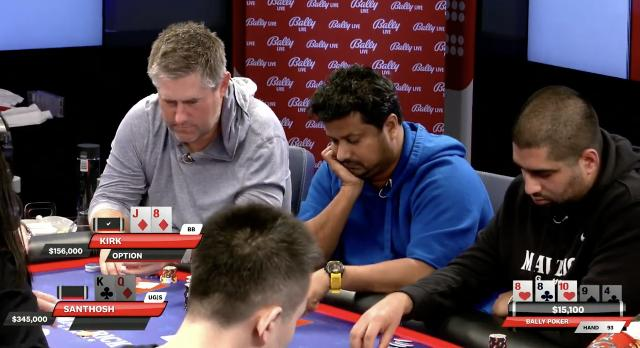10H: (558, 282, 578, 302)
4C: (603, 286, 621, 304)
8C: (536, 282, 554, 302)
8D: (152, 206, 172, 234)
8H: (514, 282, 532, 302)
9S: (581, 287, 599, 303)
JD: (131, 208, 151, 232)
KC: (95, 276, 115, 302)
QD: (115, 276, 136, 300)
